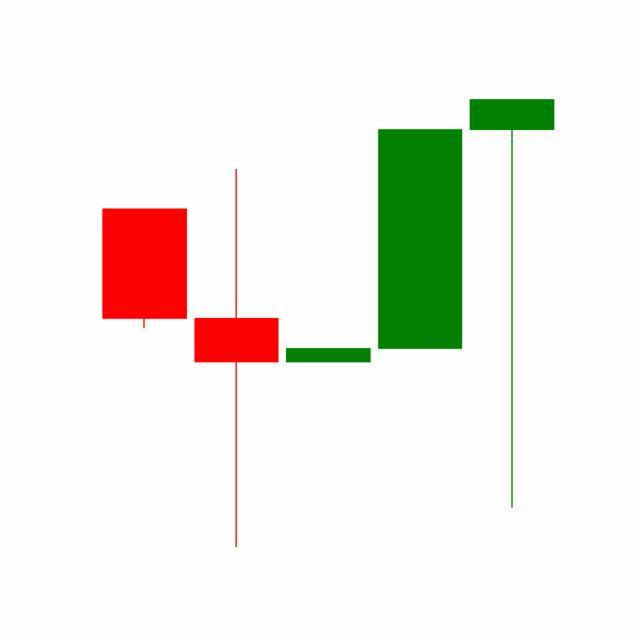Marubozu: (374, 127, 468, 351)
